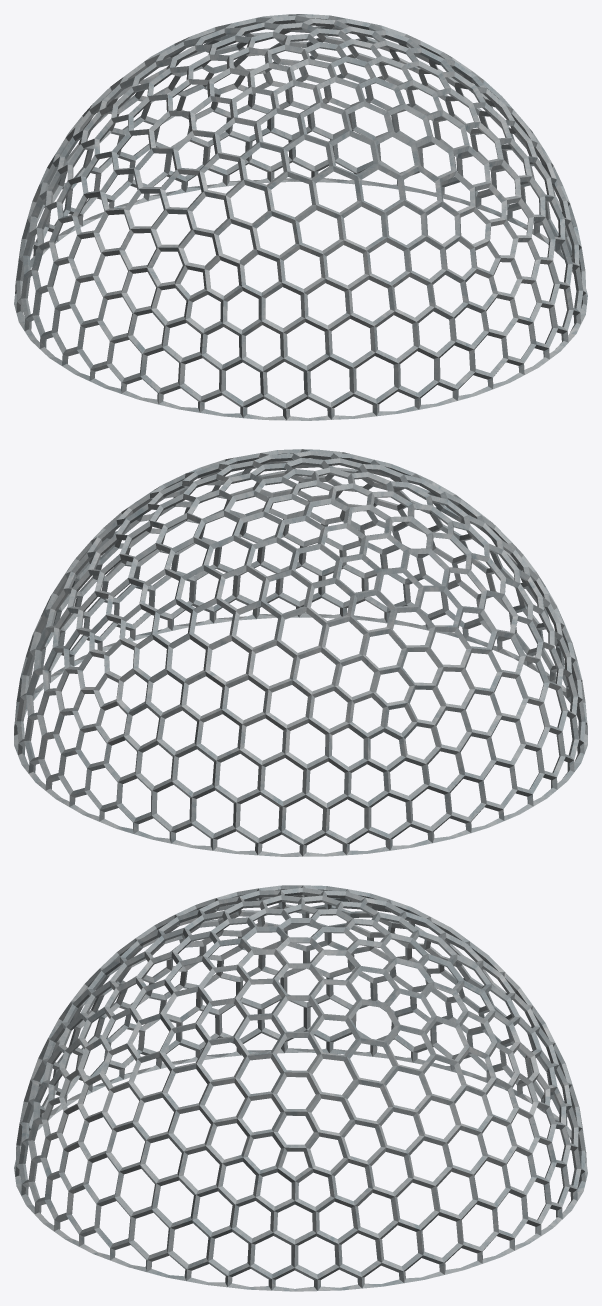
Rendered from hexagon.fbx.
3 views of the same model, one above another, from view 1: azimuth 30°, elevation 25°; view 2: azimuth 150°, elevation 25°; view 3: azimuth 270°, elevation 25° (orthographic).
Visible parts, largest first — view 1: Hexogone; view 2: Hexogone; view 3: Hexogone.
Boxes of the visible parts, x1=… form: Hexogone: x1=14, y1=14, x2=587, y2=420; Hexogone: x1=14, y1=449, x2=587, y2=856; Hexogone: x1=14, y1=885, x2=587, y2=1291.
Size of the model in its own units: 293 by 146 by 293.
